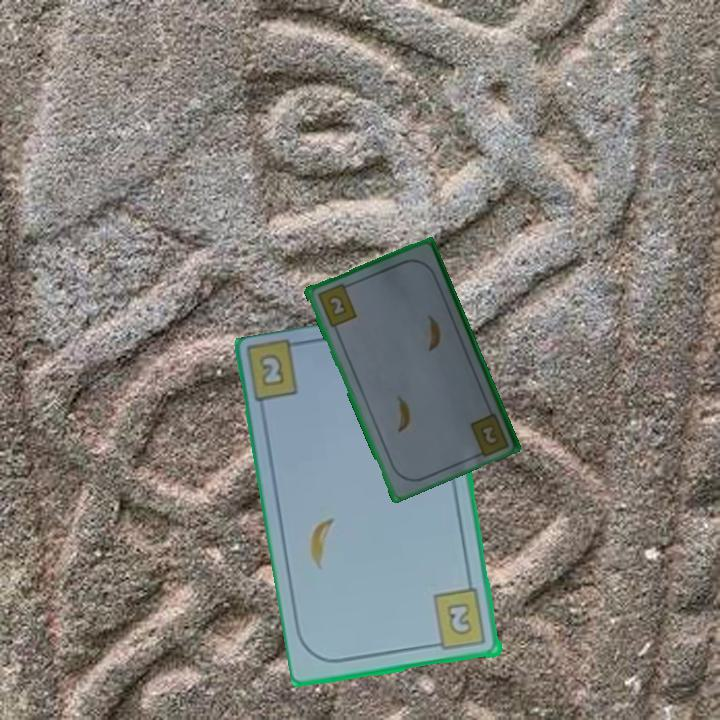2b: (428, 586, 489, 653), (313, 280, 359, 330), (255, 350, 288, 390), (476, 420, 500, 446)
